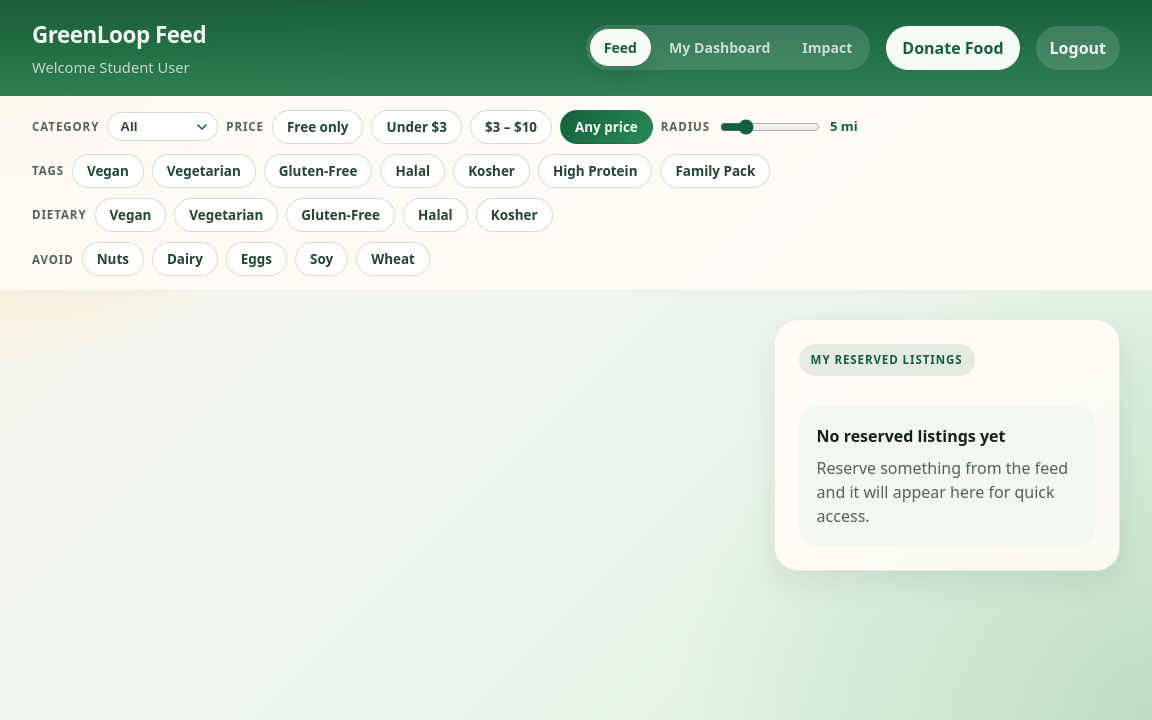
Donate Food modal › opens the donate form from the feed Donate Food button
Step 1. Click the button "Donate Food" → (953, 48), box [886, 26, 1020, 70]
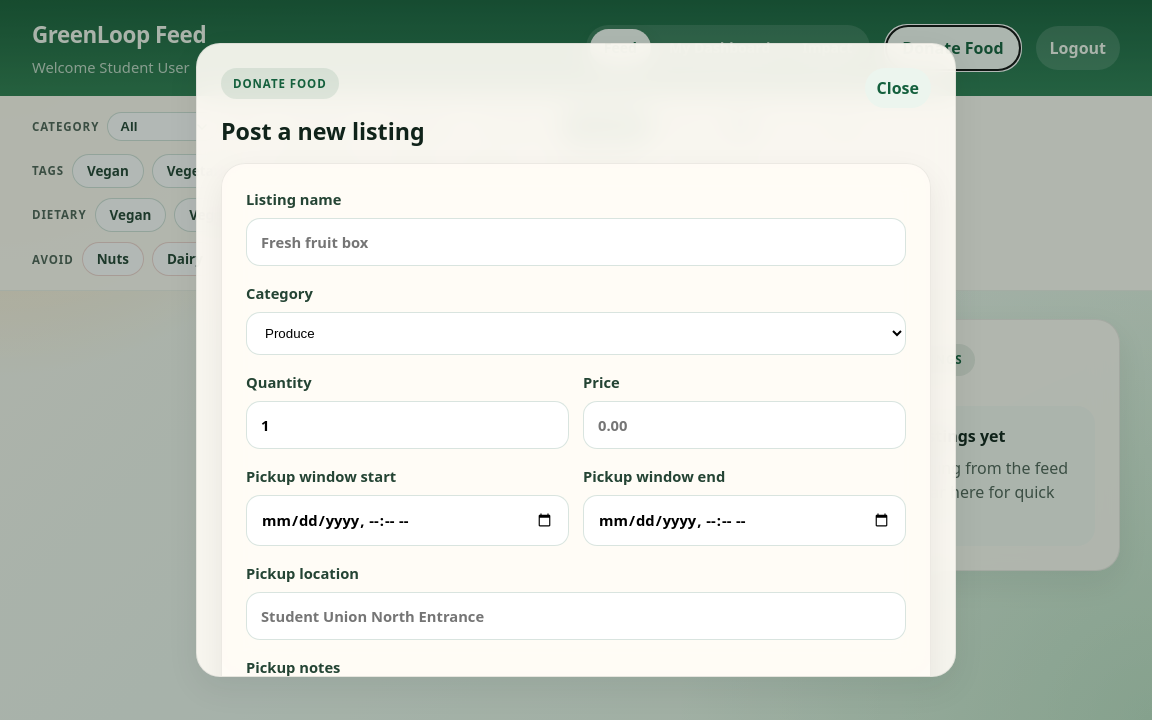
Check: the heading "Post a new listing" is shown, box [221, 120, 425, 145]
